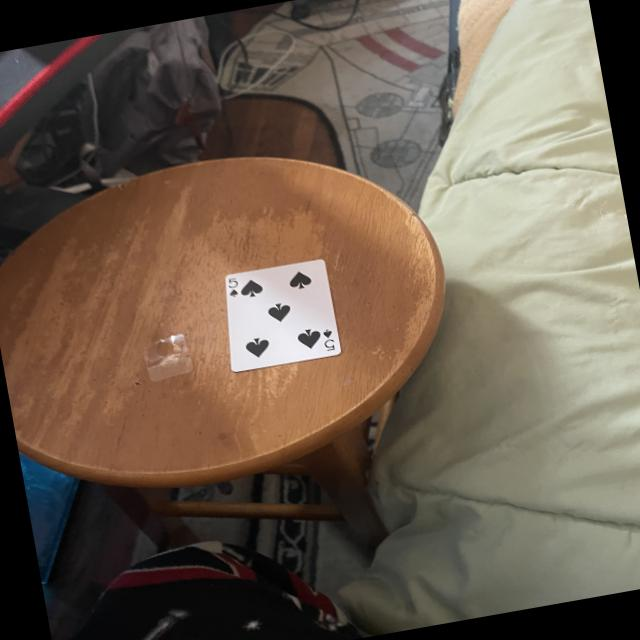5 of spades: (227, 259, 342, 373)
